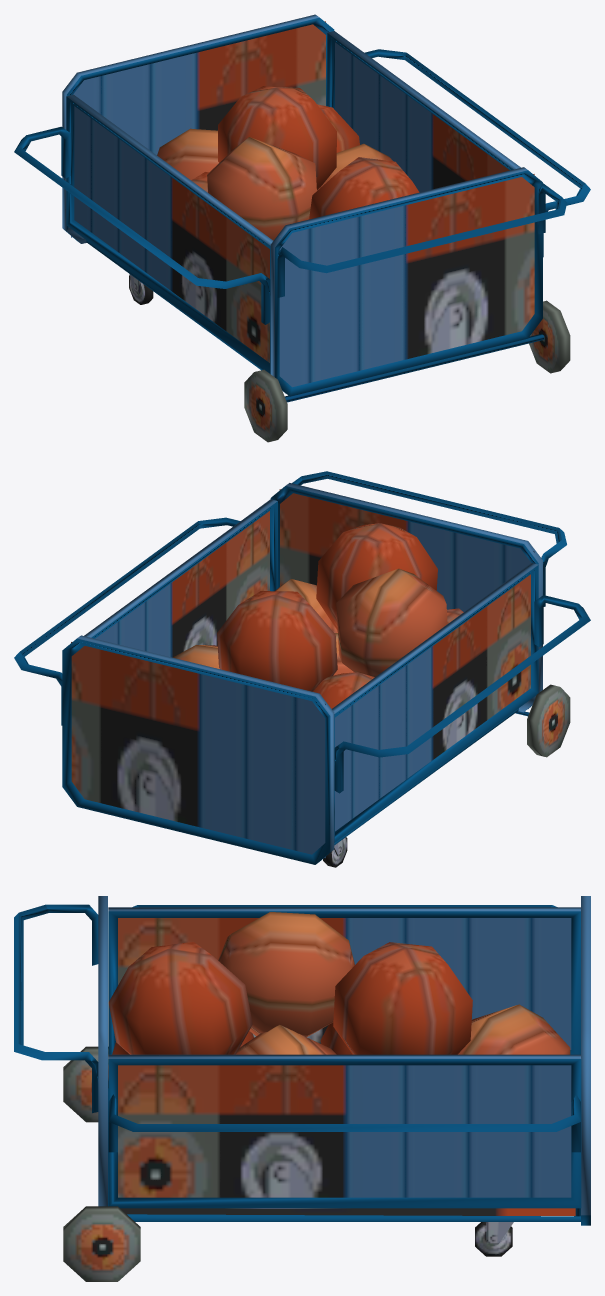
Rendered from rmk_sch_ballcase.dae.
3 views of the same model, one above another, from view 1: azimuth 30°, elevation 25°; view 2: azimuth 150°, elevation 25°; view 3: azimuth 270°, elevation 25° (orthographic). The views are drawn at different scales.
Visible parts, largest first — view 1: rmk_sch_ballcase; view 2: rmk_sch_ballcase; view 3: rmk_sch_ballcase.
Part boxes in pixels (x1=…): rmk_sch_ballcase: x1=14, y1=14, x2=590, y2=442; rmk_sch_ballcase: x1=14, y1=471, x2=590, y2=867; rmk_sch_ballcase: x1=14, y1=896, x2=590, y2=1281.
Bounding box in the file's own units: 53.1 × 28 × 58.07.
1 material, 1 textured.
